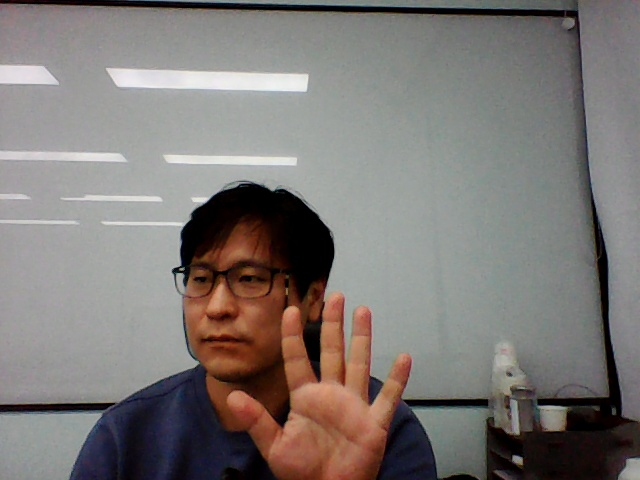five: (213, 292, 418, 471)
